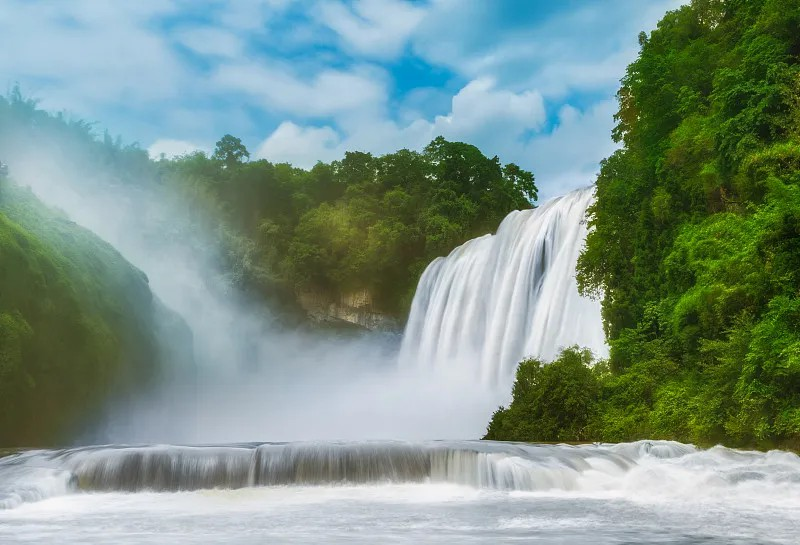Huangguoshu: (390, 185, 612, 439)
